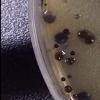black: (41, 10, 57, 24), (54, 32, 67, 44), (77, 91, 92, 100), (64, 57, 76, 66), (55, 49, 64, 61), (84, 36, 96, 45), (63, 84, 72, 94), (78, 30, 88, 38), (69, 49, 76, 57), (63, 28, 71, 35), (60, 76, 66, 82), (71, 92, 77, 98), (53, 43, 59, 48), (67, 74, 73, 79)
